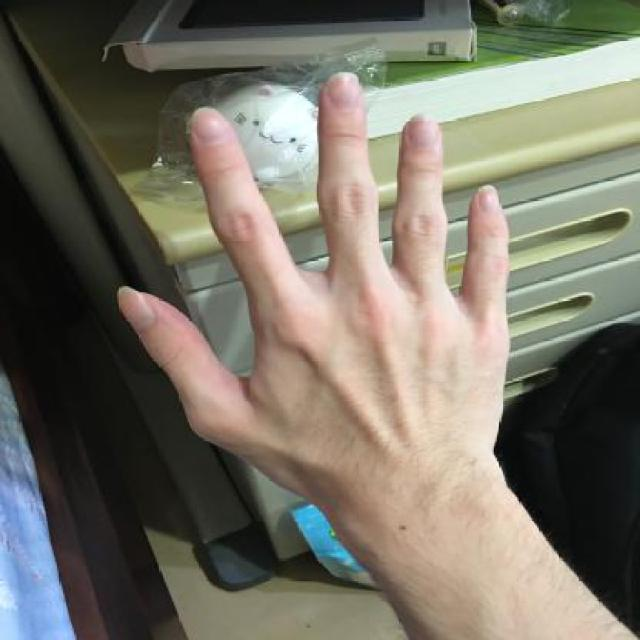no_glove: (102, 60, 527, 523)
